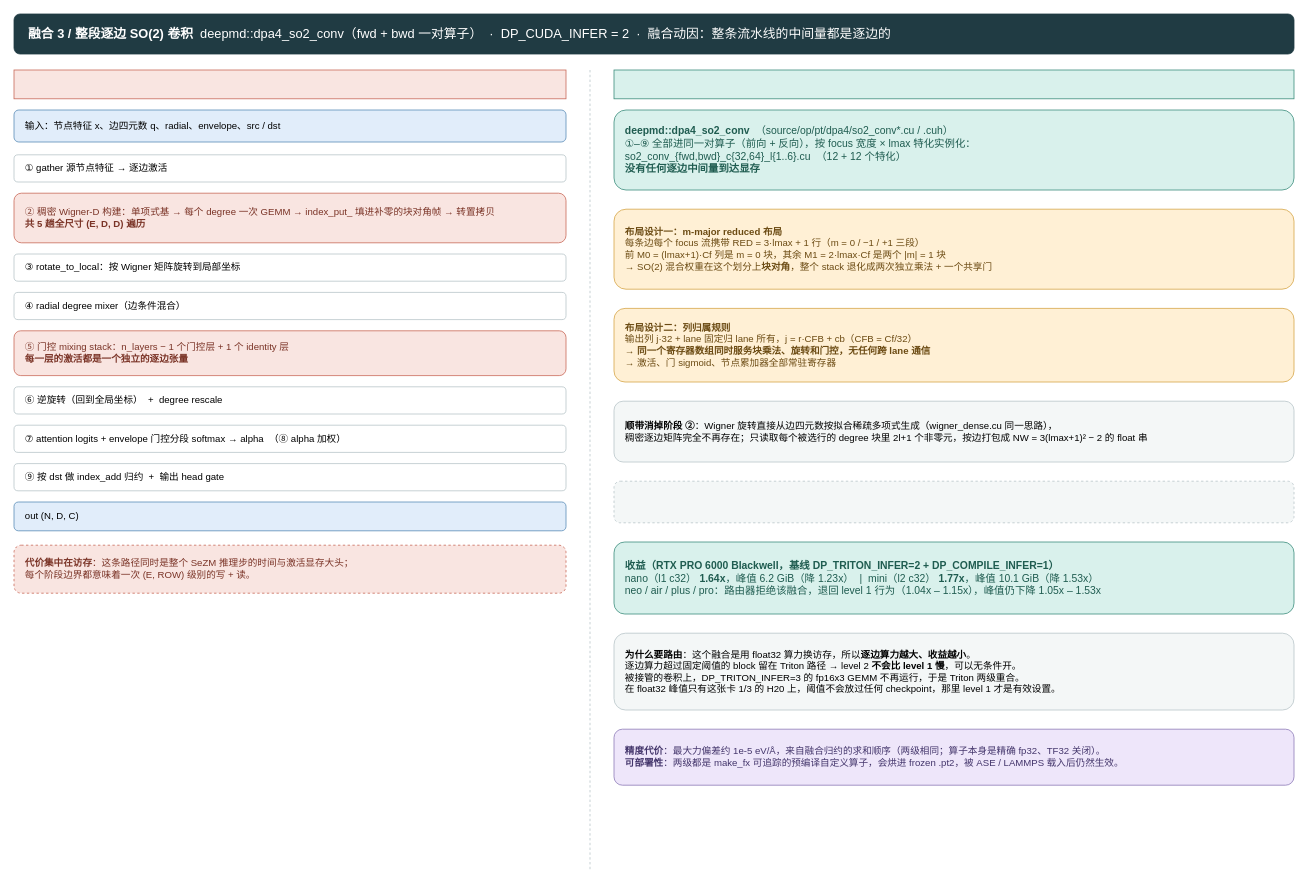
Image size: 1308x885. Some labels were removed from this diagram. Here are the shapes that lost their labels. From the top down, the centre of each, then its label:
At pixel 289 84: "未融合：9 个阶段，每个阶段都把 (E, ROW) 级别的激活落 HBM".
At pixel 953 84: "融合后：一对算子，逐边中间量一个都不到达显存".
At pixel 953 501: "CSR 拓扑在 C++ 侧自行推导，而不是作为参数传入——否则 Python 包装需要把节点数当 Python int，会把 trace 期的节点数烘进编译图。".
